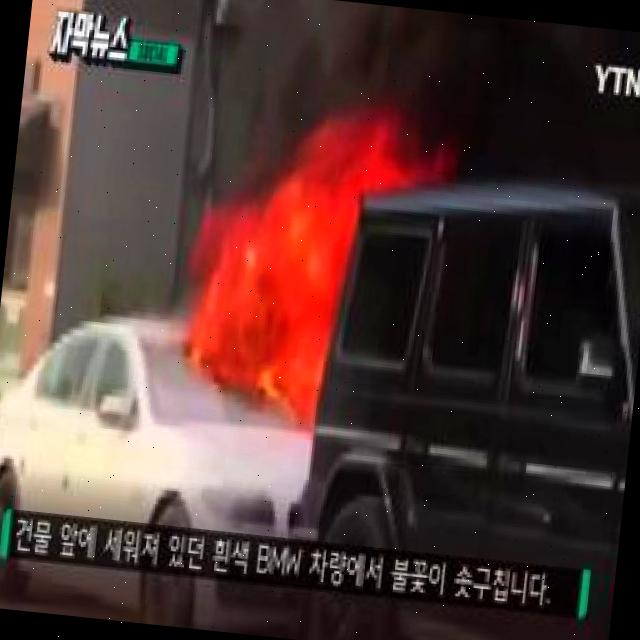fire: (200, 130, 419, 411)
